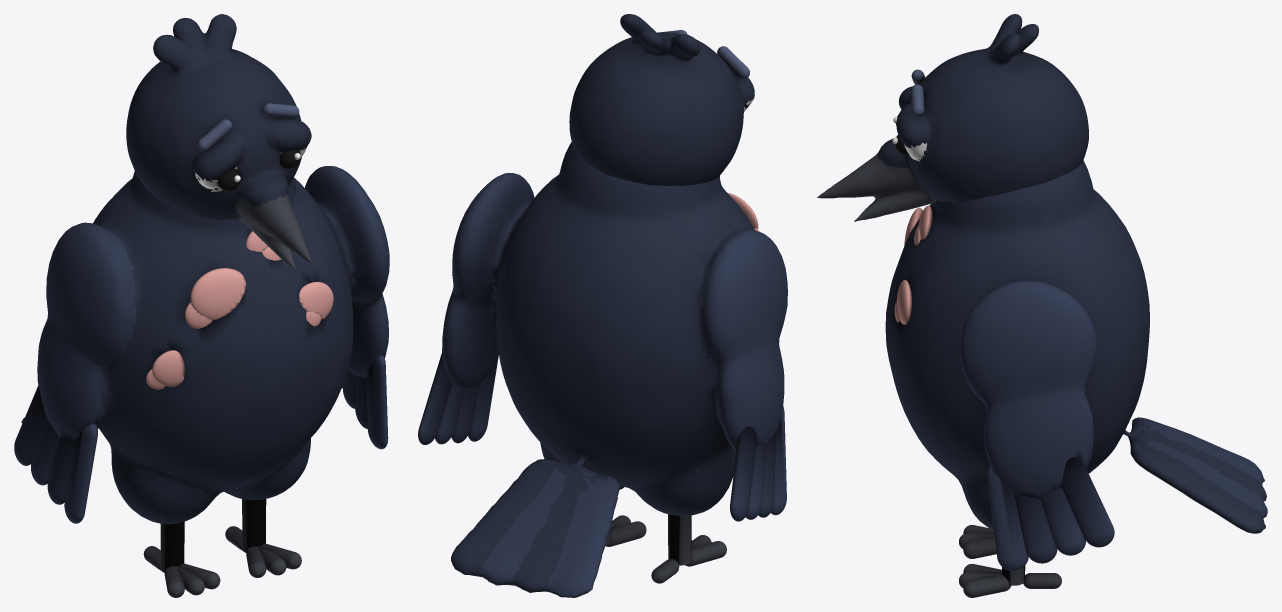
Rendered from vad-synd.glb.
3 renders of one model, left to right at view 1: azimuth 30°, elevation 25°; view 2: azimuth 150°, elevation 25°; view 3: azimuth 270°, elevation 25°, orthographic. The views are drawn at different scales.
Parts seen in each view (by area): view 1: corvo__r0, cabeca__r0, corvo__r4, corvo__r13, corvo__r18, corvo__r17, corvo__r14, corvo__r23, corvo__r16, corvo__r1, corvo__r11, corvo__r6 (+4 smaller); view 2: corvo__r0, cabeca__r0, corvo__r17, corvo__r21, corvo__r1, corvo__r13, corvo__r18, corvo__r14, corvo__r16, corvo__r20, corvo__r19, corvo__r2 (+2 smaller); view 3: corvo__r0, cabeca__r0, corvo__r21, corvo__r18, corvo__r19, corvo__r20, corvo__r26.
Boxes of the visible parts, x1,y1,x2,y2 form: corvo__r0: (21, 166, 389, 524); cabeca__r0: (126, 14, 311, 270); corvo__r4: (190, 268, 245, 320); corvo__r13: (64, 424, 97, 523); corvo__r18: (366, 355, 388, 449); corvo__r17: (14, 385, 46, 465); corvo__r14: (47, 436, 75, 504); corvo__r23: (242, 499, 266, 552); corvo__r16: (31, 418, 58, 485); corvo__r1: (160, 521, 184, 572); corvo__r11: (152, 350, 184, 386); corvo__r6: (299, 282, 333, 319); corvo__r0: (442, 142, 787, 597); cabeca__r0: (569, 14, 754, 185); corvo__r17: (730, 426, 756, 521); corvo__r21: (418, 353, 452, 444); corvo__r1: (668, 514, 691, 565); corvo__r13: (771, 406, 786, 515); corvo__r18: (468, 354, 498, 441); corvo__r14: (758, 434, 775, 517); corvo__r16: (745, 444, 765, 519); corvo__r20: (435, 385, 464, 444); corvo__r19: (451, 384, 479, 443); corvo__r2: (685, 541, 726, 566); corvo__r0: (885, 160, 1267, 533); cabeca__r0: (817, 14, 1088, 221); corvo__r21: (1062, 457, 1114, 547); corvo__r18: (987, 465, 1028, 570); corvo__r19: (1014, 494, 1057, 563); corvo__r20: (1040, 487, 1085, 555); corvo__r26: (963, 574, 1010, 597).
Bounding box in the file's own units: 1.29 × 2.06 × 1.57.
